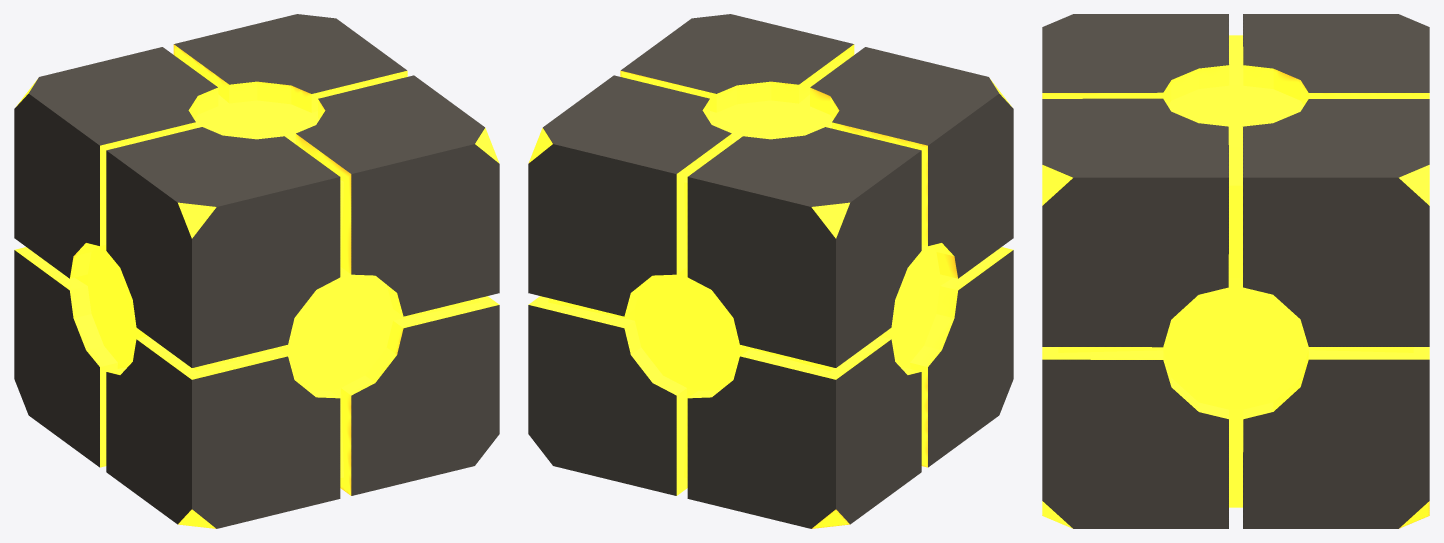
File: item drop yellow.fbx
3 renders of one model, left to right at view 1: azimuth 30°, elevation 25°; view 2: azimuth 150°, elevation 25°; view 3: azimuth 270°, elevation 25°, orthographic. The views are drawn at different scales.
Visible parts, largest first — view 1: Cube; view 2: Cube; view 3: Cube.
Part boxes in pixels (x1=…): Cube: x1=14, y1=14, x2=499, y2=528; Cube: x1=528, y1=14, x2=1013, y2=528; Cube: x1=1042, y1=14, x2=1429, y2=528.
Size of the model in its own units: 20 by 20 by 20.
1 material, 1 textured.
